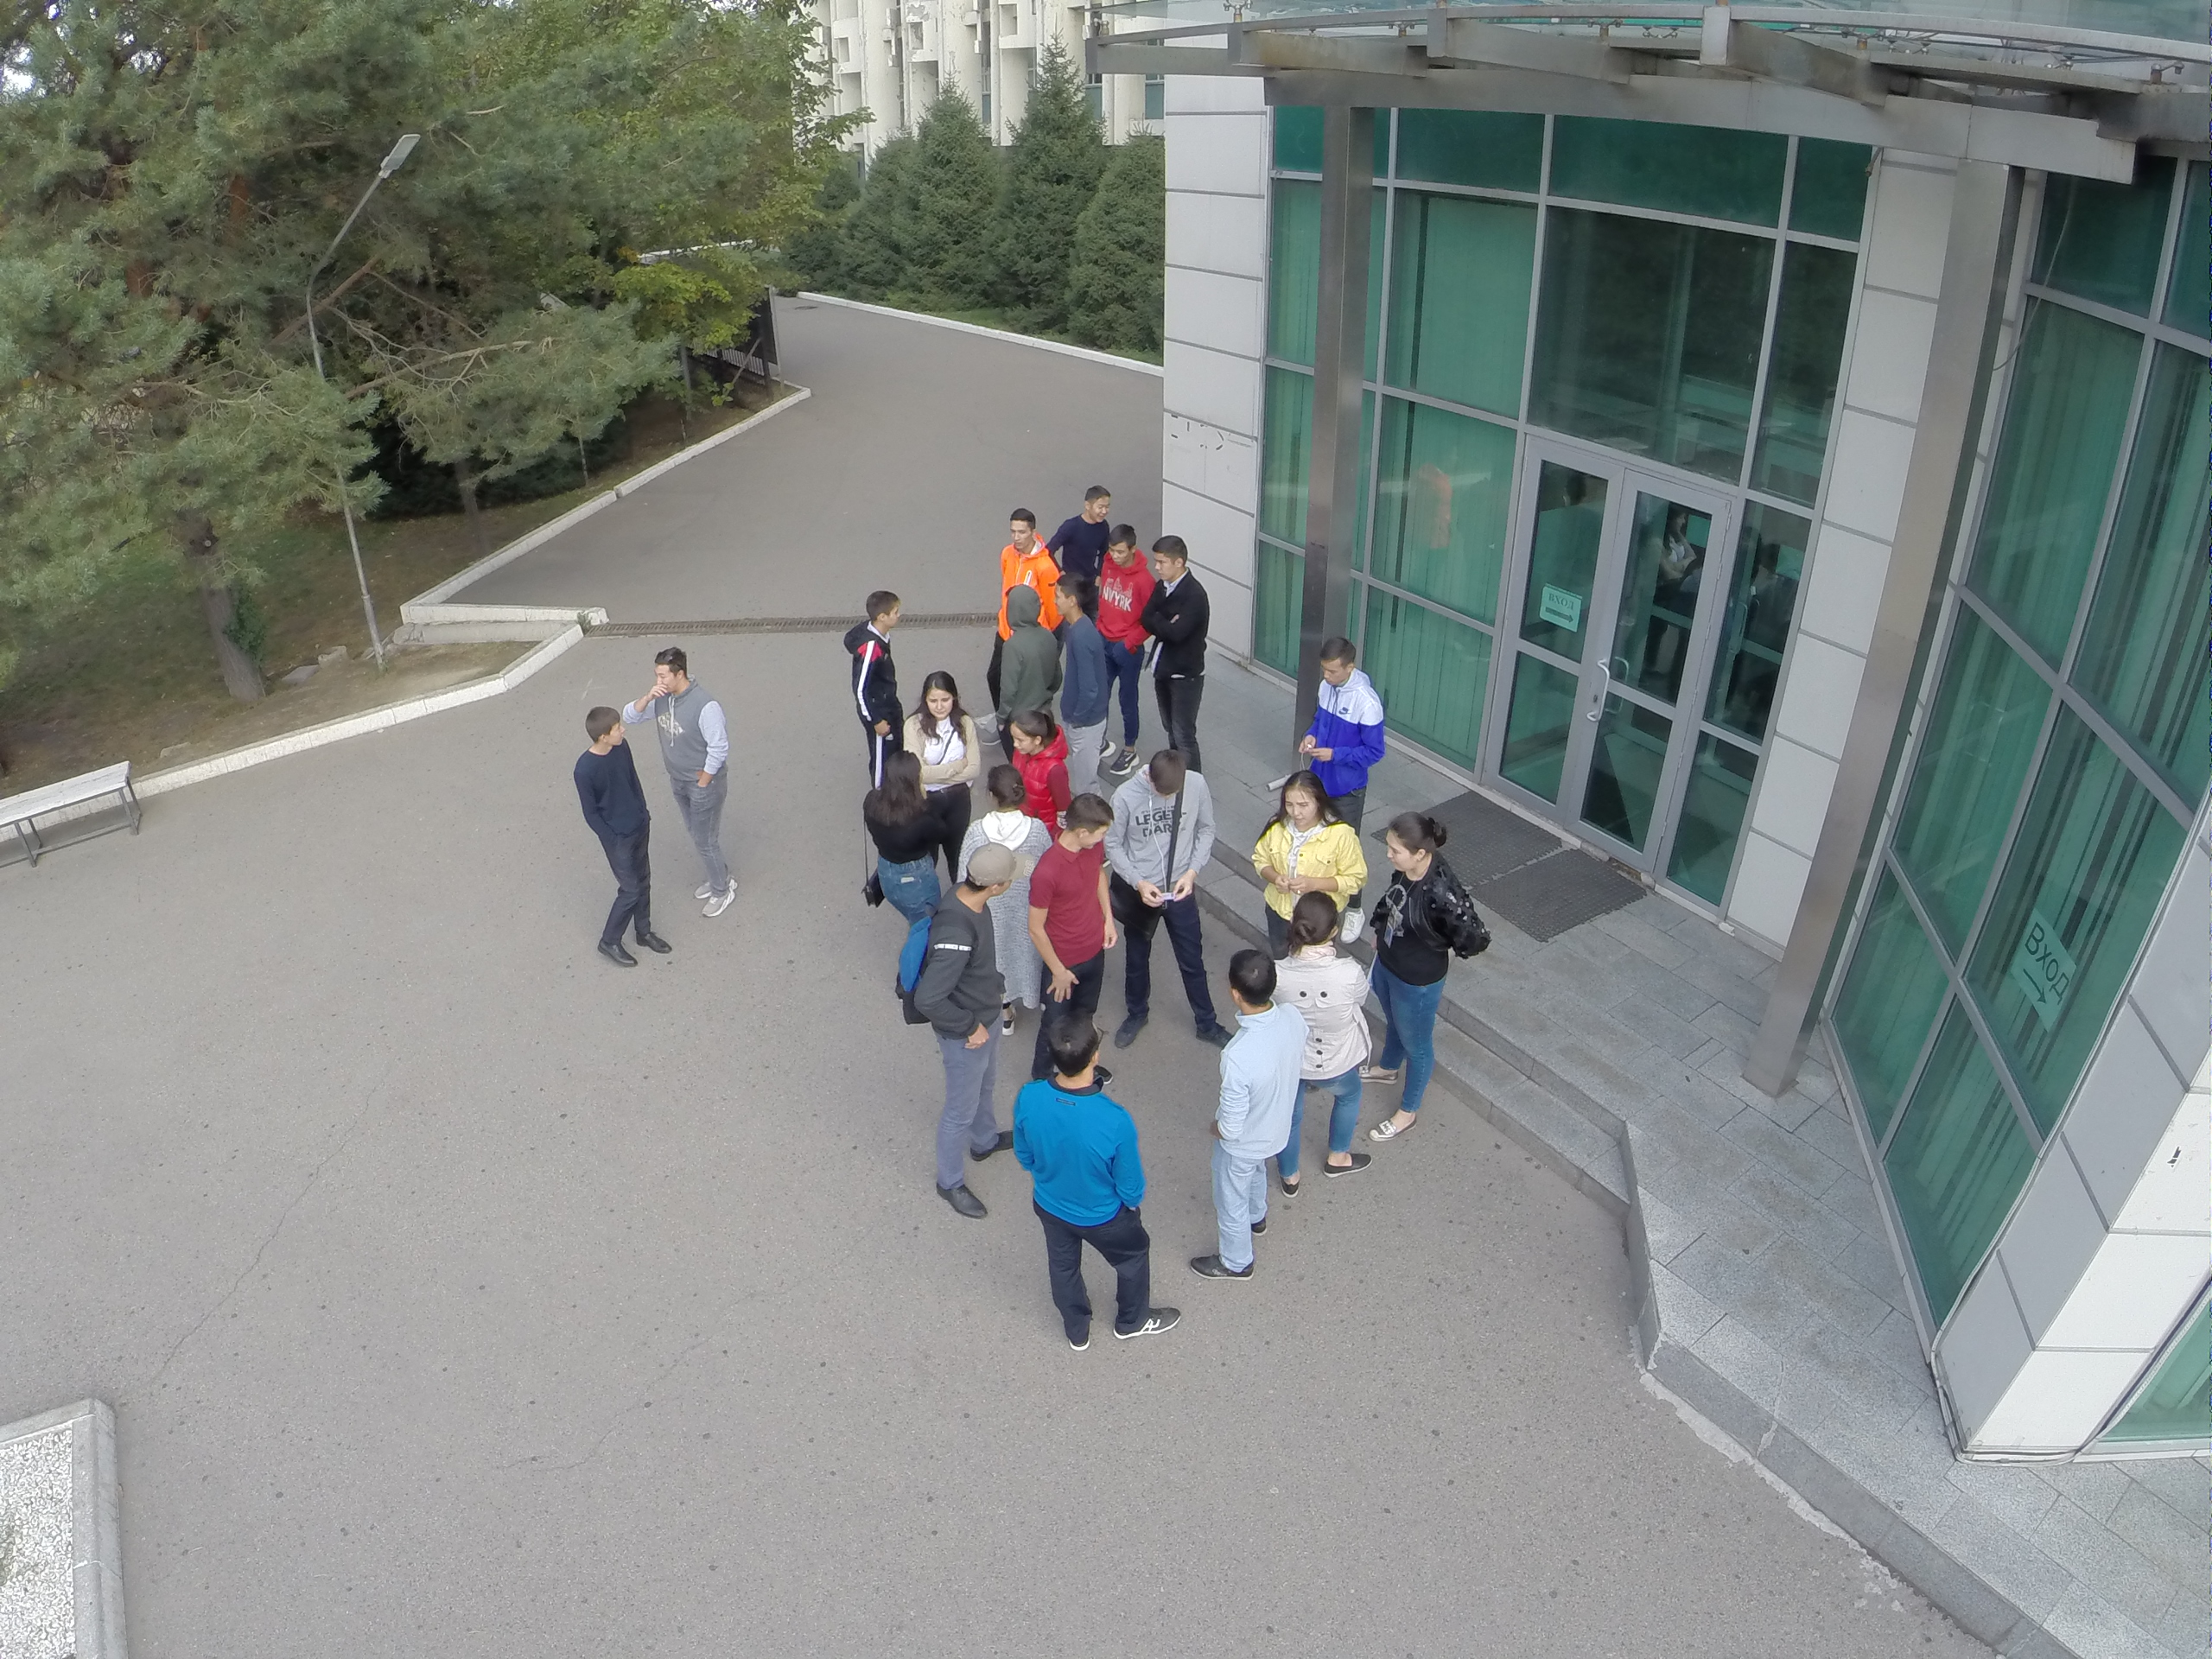person: (1011, 1019, 1178, 1353), (901, 844, 1026, 1226), (1103, 751, 1234, 1047), (1185, 953, 1288, 1289), (1370, 819, 1474, 1147), (643, 644, 757, 919), (1259, 912, 1371, 1186), (573, 707, 677, 972), (853, 751, 934, 985), (1245, 766, 1370, 912), (1033, 794, 1110, 1023), (1043, 572, 1118, 790), (1147, 531, 1215, 751), (1304, 628, 1385, 804), (840, 575, 913, 750), (911, 671, 984, 844), (988, 582, 1061, 713), (988, 505, 1063, 621), (1001, 715, 1074, 809), (1063, 480, 1120, 574), (1104, 525, 1144, 604)
